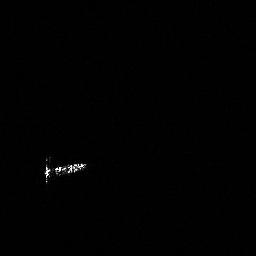ship: (42, 158, 88, 184)
